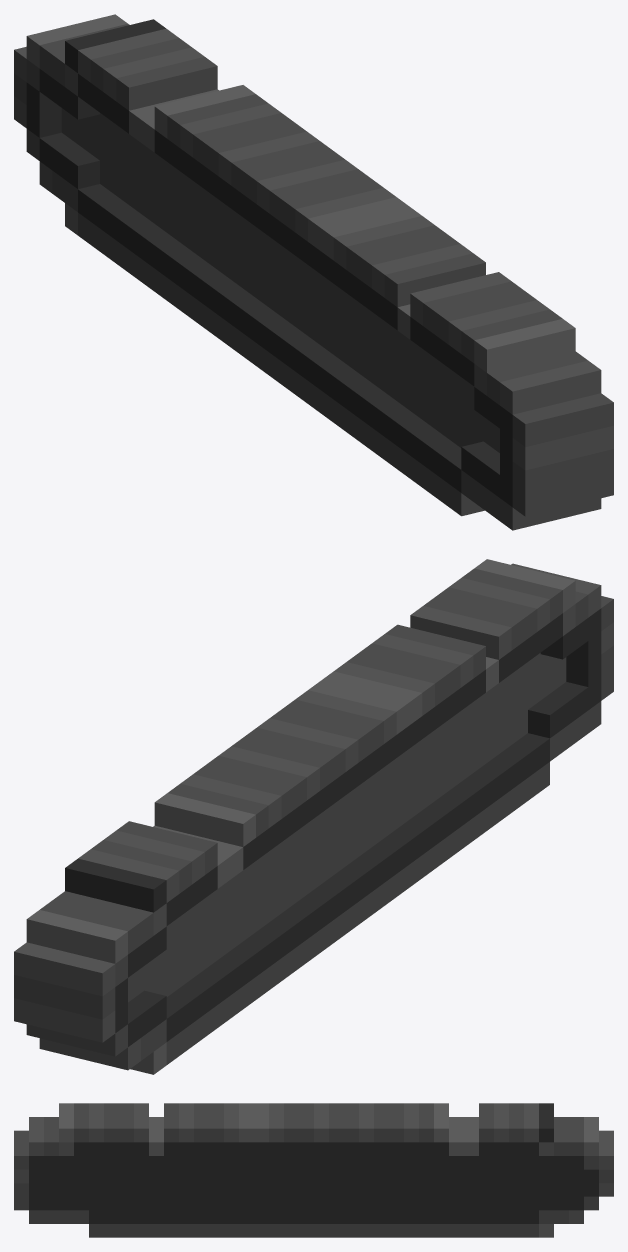
The model's file is firsttank-3.glb.
The picture shows the model from 3 angles, top to bottom: view 1: azimuth 30°, elevation 25°; view 2: azimuth 150°, elevation 25°; view 3: azimuth 270°, elevation 25°; orthographic projection. The views are drawn at different scales.
Parts seen in each view (by area): view 1: # material; view 2: # material; view 3: # material.
Part boxes in pixels (x1,y1,x2,y2): # material: [14, 14, 613, 530]; # material: [14, 559, 613, 1074]; # material: [14, 1103, 613, 1237].
Size of the model in its own units: 0.4 by 0.8 by 4.
Materials: 1 (1 with a texture image).
